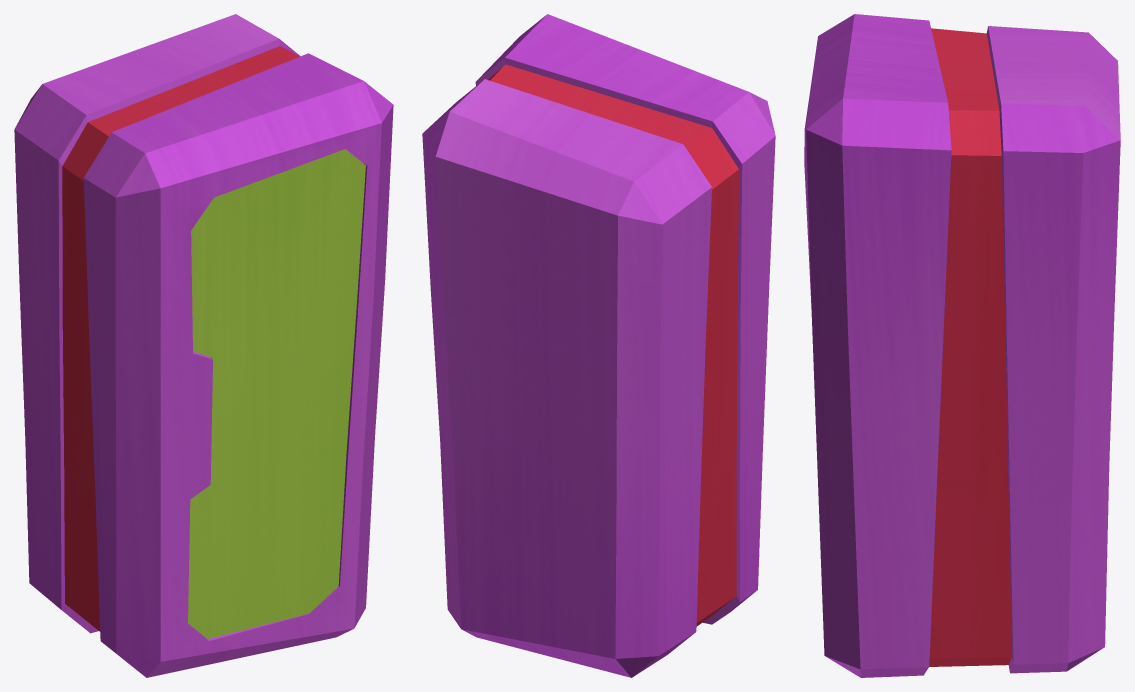
Rendered from Shower.fbx.
The picture shows the model from 3 angles, left to right: view 1: azimuth 30°, elevation 25°; view 2: azimuth 150°, elevation 25°; view 3: azimuth 270°, elevation 25°; orthographic projection. The views are drawn at different scales.
Parts seen in each view (by area): view 1: Bath, Bath.001; view 2: Bath; view 3: Bath.
Part boxes in pixels (bbox=[...]): Bath: bbox=[14, 14, 393, 677]; Bath.001: bbox=[188, 149, 365, 638]; Bath: bbox=[422, 14, 775, 677]; Bath: bbox=[804, 14, 1120, 677].
Size of the model in its own units: 116 by 228 by 111.
